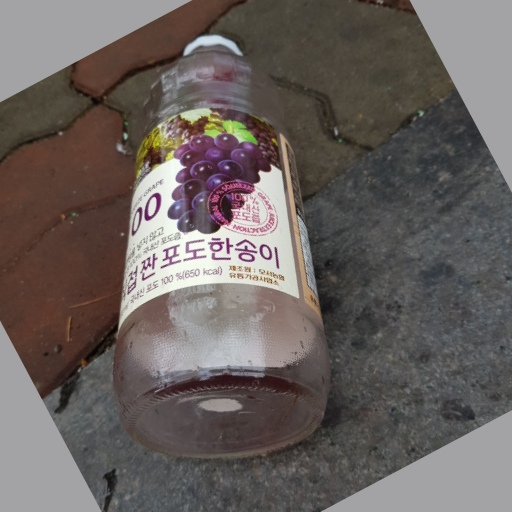Glass_4: (117, 34, 329, 459)
